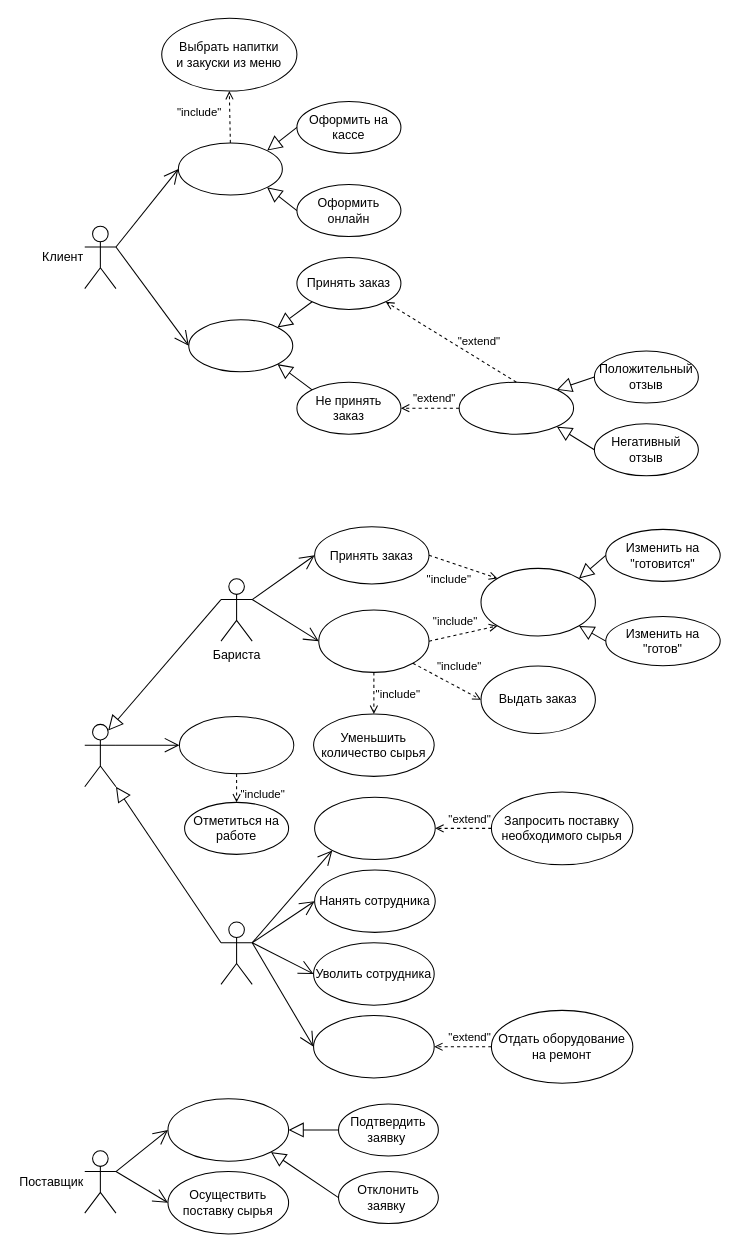
This 738x1252 diagram has some shape labels left out. The shapes that lost their labels are listed below. From the top down, each one's centre as x and y in pixels, then its label:
the point at 229,168: Оформить заказ
the point at 240,345: Получить заказ
the point at 516,407: Оставить отзыв
the point at 537,601: Изменить статус заказа
the point at 373,640: Выполнить заказ
the point at 100,755: Сотрудник
the point at 236,745: Прийти на работу
the point at 374,828: Проверить количество сырья
the point at 236,952: Менеджер
the point at 373,1046: Проверить оборудование
the point at 228,1129: Получить заявку на поставку сырья
